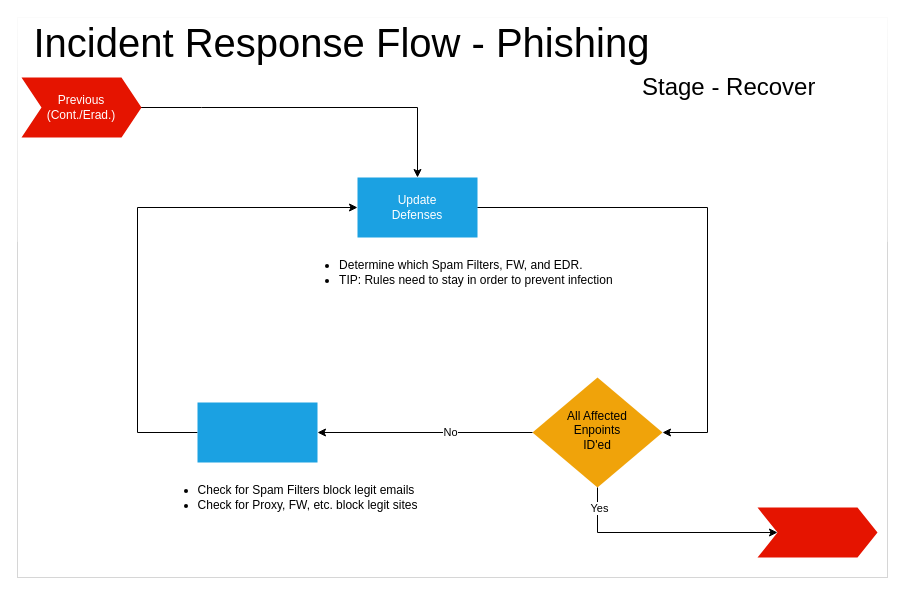
This 905x595 diagram has some shape labels left out. The box of each missing label's shape, as (x1, y1, x2, y2) in pixels:
Data Collection: (197, 402, 317, 462)
Next (Post Incident): (757, 507, 877, 557)
